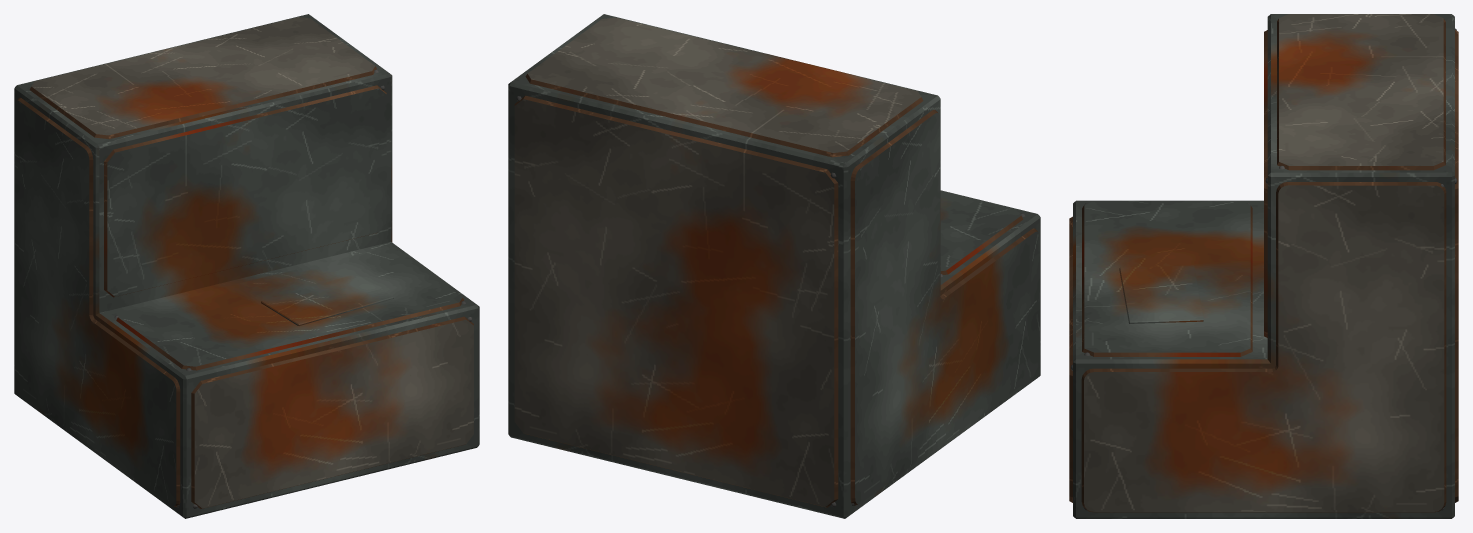
The model's file is R4B_Step.glb.
3 renders of one model, left to right at view 1: azimuth 30°, elevation 25°; view 2: azimuth 150°, elevation 25°; view 3: azimuth 270°, elevation 25°, orthographic. The views are drawn at different scales.
Parts seen in each view (by area): view 1: R4B_Step; view 2: R4B_Step; view 3: R4B_Step.
Part boxes in pixels (x1,y1,x2,y2): R4B_Step: (14,14,479,518); R4B_Step: (508,14,1040,518); R4B_Step: (1069,14,1458,518).
Bounding box in the file's own units: 0.52 × 0.52 × 0.52.
Materials: 4 (4 with a texture image).
